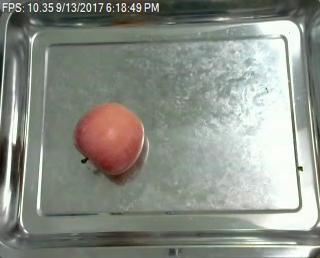apple: (73, 103, 145, 178)
